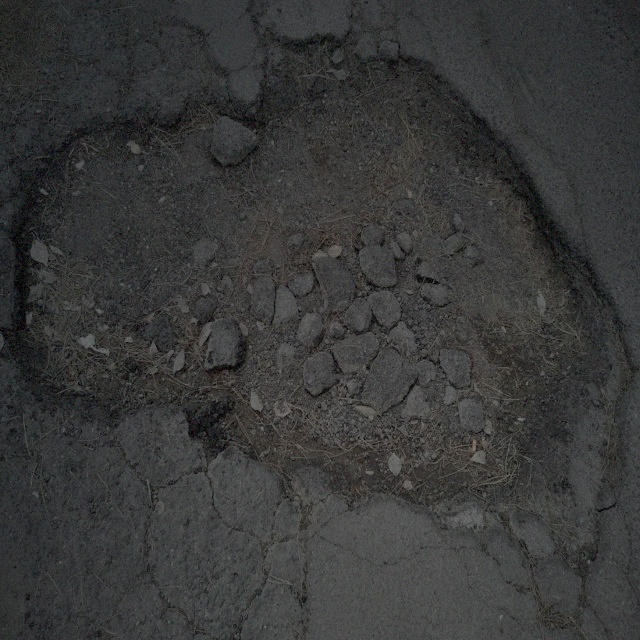pothole: (9, 28, 615, 565)
